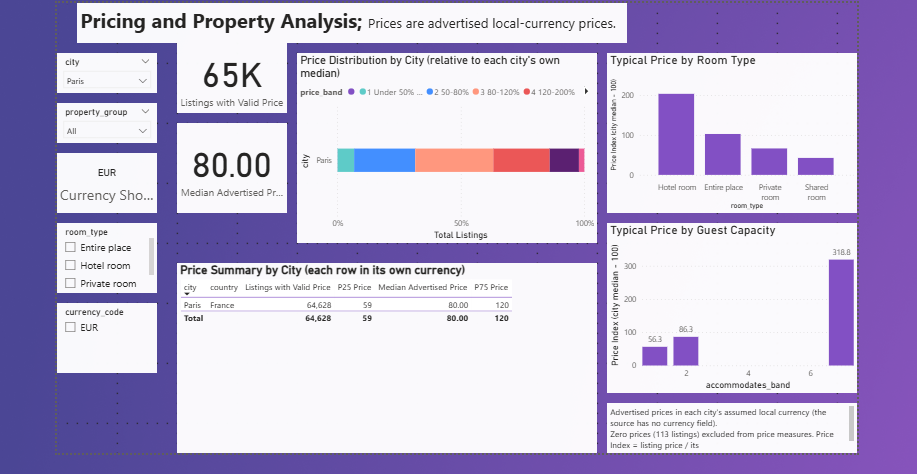

What the dashboard file says about the page in this screenshot:
{"tool":"powerbi","page":{"name":"Pricing and Property","canvas":[1280,720],"ordinal":2},"visuals":[{"type":"slicer","fields":{"Values":["dim_city.city"]},"box":[0,80,160,64],"z":0},{"type":"slicer","fields":{"Values":["dim_listing.room_type"]},"box":[0,352,160,112],"z":1000},{"type":"slicer","fields":{"Values":["dim_listing.property_group"]},"box":[0,160,160,64],"z":2000},{"type":"slicer","fields":{"Values":["dim_city.currency_code"]},"box":[0,480,160,112],"z":3000},{"type":"textbox","box":[32,0,880,64],"z":4000},{"type":"card","fields":{"Values":["dim_listing.Currency Shown"]},"box":[0,240,160,96],"z":5000},{"type":"card","fields":{"Values":["dim_listing.Median Advertised Price"]},"box":[192,192,176,144],"z":6000},{"type":"card","fields":{"Values":["dim_listing.Listings with Valid Price"]},"box":[192,64,176,112],"z":7000},{"type":"tableEx","title":"Price Summary by City (each row in its own currency)","fields":{"Values":["dim_city.city","dim_city.country","dim_listing.Listings with Valid Price","dim_listing.P25 Price","dim_listing.Median Advertised Price","dim_listing.P75 Price"]},"box":[192,416,672,304],"z":8000},{"type":"hundredPercentStackedBarChart","title":"Price Distribution by City (relative to each city''s own median)","fields":{"Category":["dim_city.city"],"Series":["dim_listing.price_band"],"Y":["dim_listing.Total Listings"]},"box":[384,80,480,304],"z":9000},{"type":"clusteredColumnChart","title":"Typical Price by Room Type ","fields":{"Category":["dim_listing.room_type"],"Y":["dim_listing.Price Index (city median - 100)"]},"box":[880,80,400,256],"z":10000},{"type":"clusteredColumnChart","title":"Typical Price by Guest Capacity","fields":{"Category":["dim_listing.accommodates_band"],"Y":["dim_listing.Price Index (city median - 100)"]},"box":[880,352,400,272],"z":11000},{"type":"textbox","box":[880,640,400,80],"z":12000}]}

Visuals, with their boxes in screenshot pixels (x1, y1, x2, y2):
slicer - dim_city.city: (55,50,155,90)
slicer - dim_listing.room_type: (55,220,155,290)
slicer - dim_listing.property_group: (55,100,155,140)
slicer - dim_city.currency_code: (55,300,155,370)
textbox: (75,0,625,40)
card - dim_listing.Currency Shown: (55,150,155,210)
card - dim_listing.Median Advertised Price: (175,120,285,210)
card - dim_listing.Listings with Valid Price: (175,40,285,110)
"Price Summary by City (each row in its own currency)" tableEx: (175,260,595,450)
"Price Distribution by City (relative to each city''s own median)" hundredPercentStackedBarChart: (295,50,595,240)
"Typical Price by Room Type " clusteredColumnChart: (605,50,854,210)
"Typical Price by Guest Capacity" clusteredColumnChart: (605,220,854,390)
textbox: (605,400,854,450)
